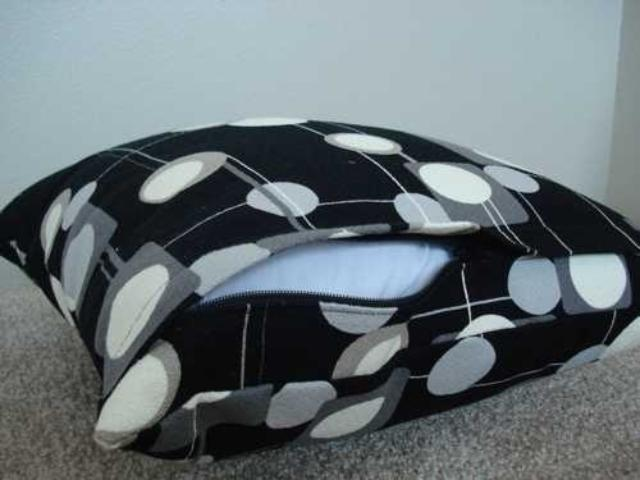pillow: (0, 117, 638, 461)
